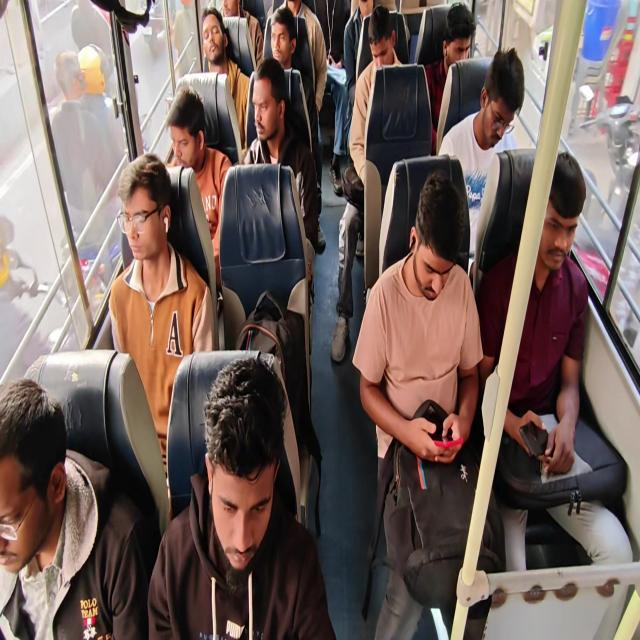person: (2, 1, 634, 638), (351, 170, 503, 638), (476, 148, 633, 587), (146, 355, 336, 639), (0, 377, 150, 639), (108, 154, 214, 506), (330, 5, 404, 362), (437, 46, 525, 273), (241, 57, 319, 253), (165, 85, 233, 286), (47, 50, 110, 244), (423, 2, 476, 150), (200, 6, 250, 150), (266, 7, 315, 152), (343, 0, 376, 112), (218, 0, 264, 77)
